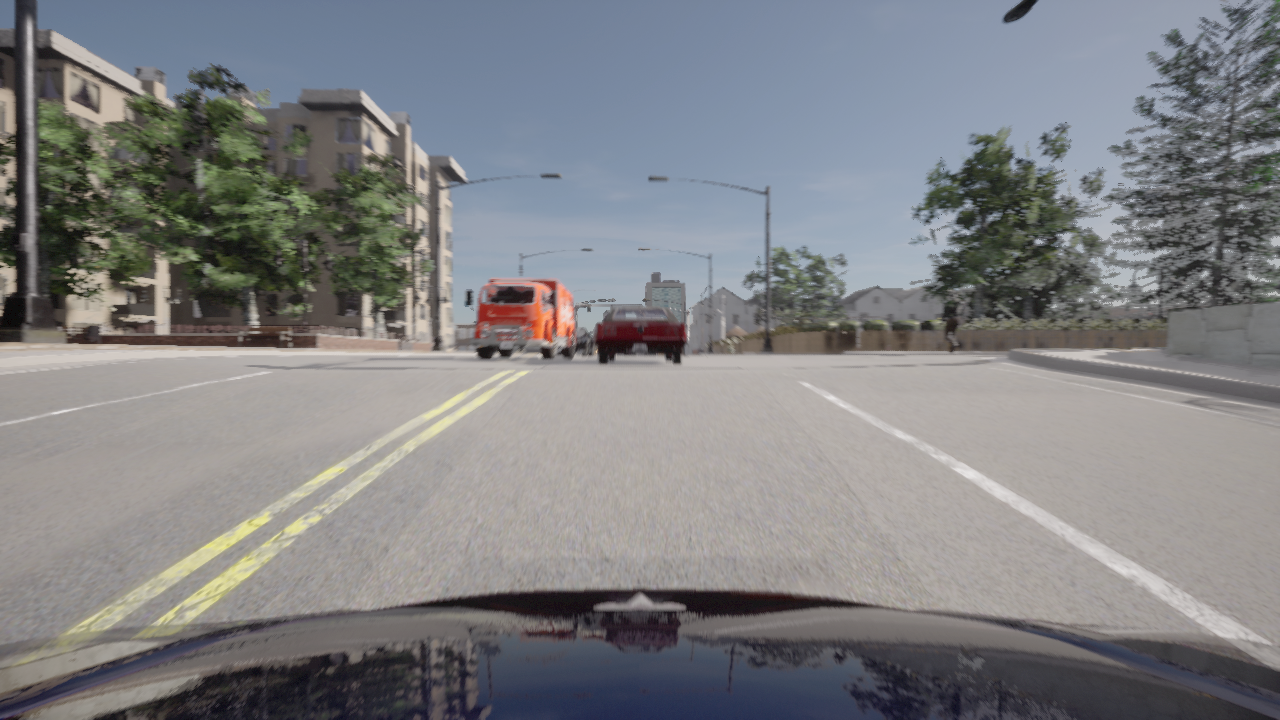cyclist: (0, 588, 1279, 719), (465, 277, 576, 359), (594, 307, 686, 363), (556, 327, 593, 355), (625, 354, 655, 355), (629, 354, 650, 355)
pedestrian: (941, 289, 964, 352)
